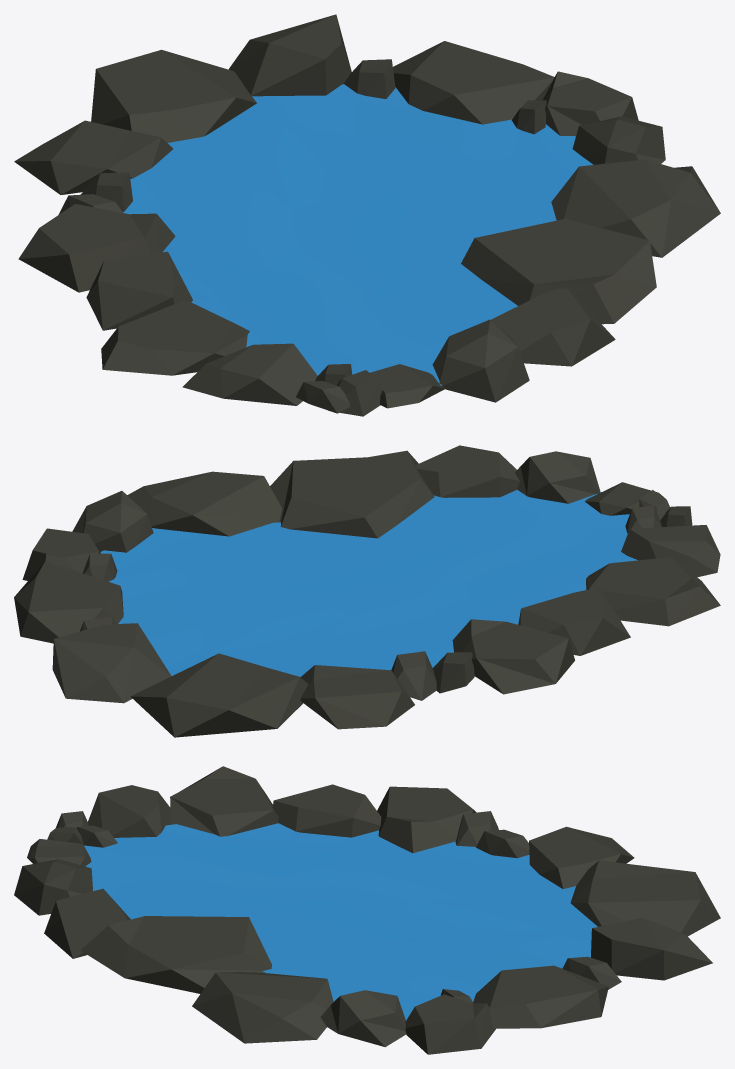
Rendered from mod_pondM.fbx.
3 views of the same model, one above another, from view 1: azimuth 30°, elevation 25°; view 2: azimuth 150°, elevation 25°; view 3: azimuth 270°, elevation 25° (orthographic). The views are drawn at different scales.
Visible parts, largest first — view 1: RocksWater.001; view 2: RocksWater.001; view 3: RocksWater.001.
Boxes of the visible parts, x1,y1,x2,y2 form: RocksWater.001: [14, 14, 720, 416]; RocksWater.001: [14, 445, 720, 737]; RocksWater.001: [14, 766, 720, 1054].
Bounding box in the file's own units: 287 × 20.06 × 317.
